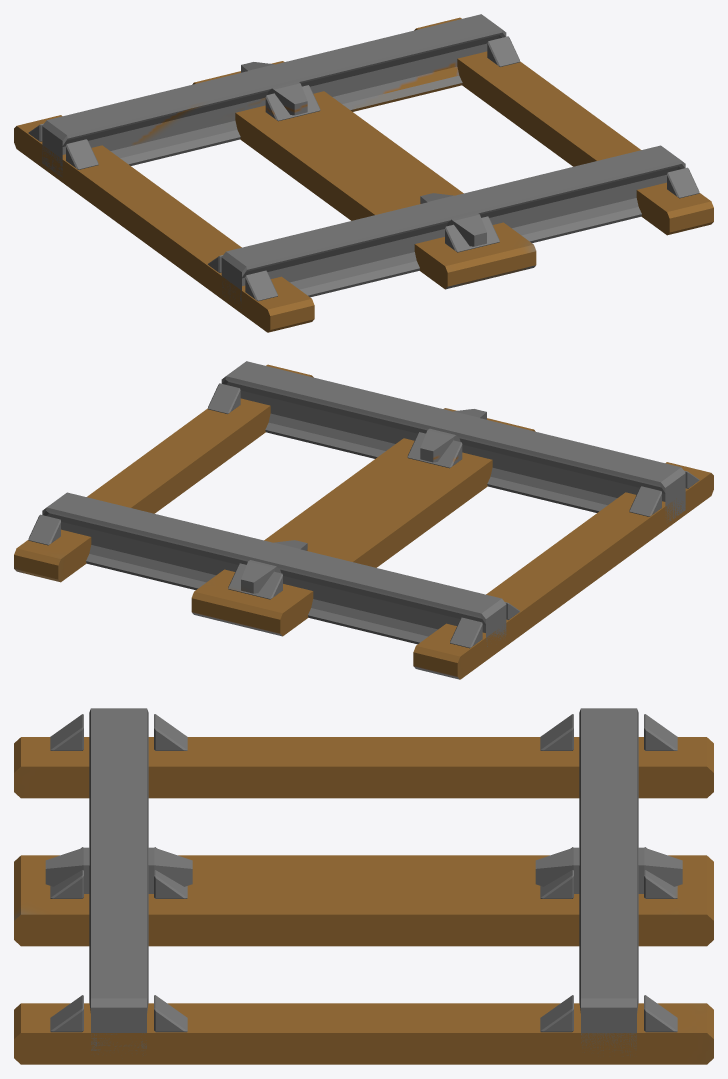
The model's file is Rails.fbx.
3 renders of one model, top to bottom at view 1: azimuth 30°, elevation 25°; view 2: azimuth 150°, elevation 25°; view 3: azimuth 270°, elevation 25°, orthographic. The views are drawn at different scales.
Visible parts, largest first — view 1: Rails; view 2: Rails; view 3: Rails.
Part boxes in pixels (<box>): Rails: <box>14,14,713,332</box>; Rails: <box>14,361,713,679</box>; Rails: <box>14,708,713,1064</box>.
Bounding box in the file's own units: 2 × 0.2 × 2.
1 material, 1 textured.
